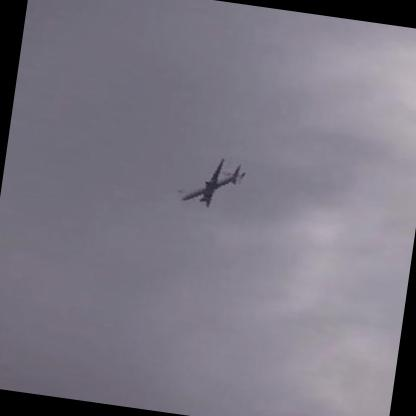plane: (173, 151, 249, 216)
